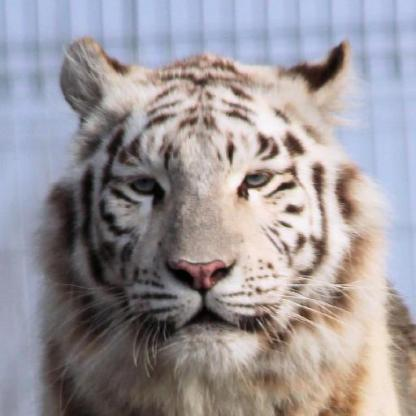tiger: (64, 46, 366, 359)
